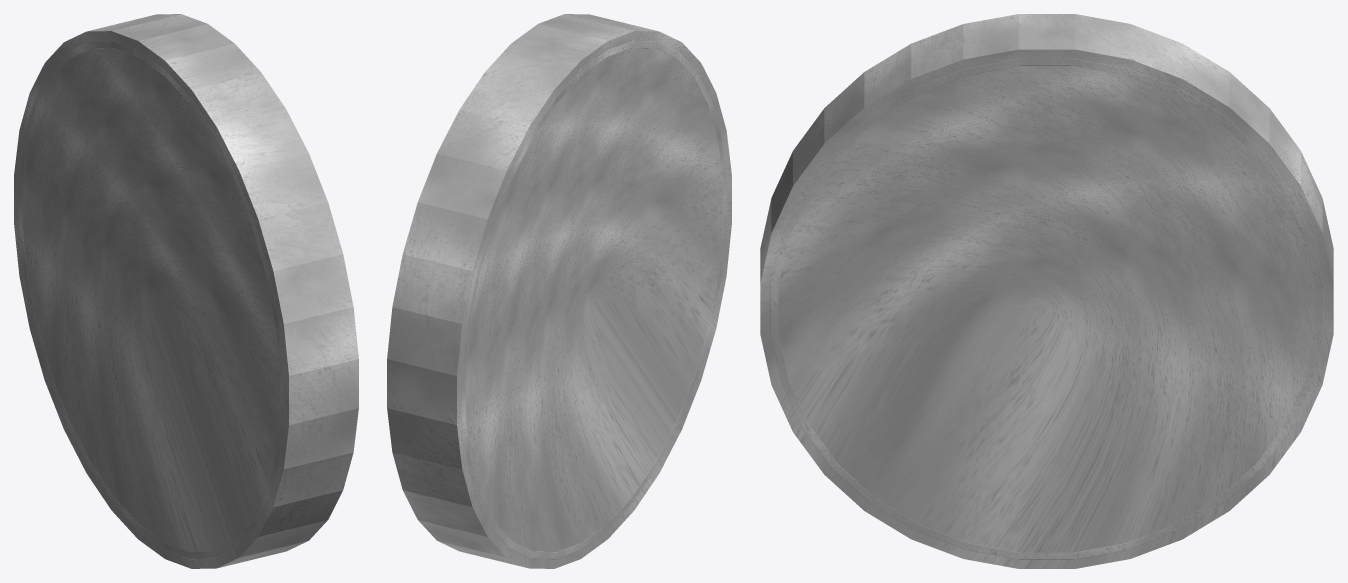
Rendered from Window01O.fbx.
The picture shows the model from 3 angles, left to right: view 1: azimuth 30°, elevation 25°; view 2: azimuth 150°, elevation 25°; view 3: azimuth 270°, elevation 25°; orthographic projection. The views are drawn at different scales.
Visible parts, largest first — view 1: Circle#2, Circle.004#2; view 2: Circle#2, Circle.004#2; view 3: Circle#2, Circle.004#2.
Boxes of the visible parts, x1,y1,x2,y2 form: Circle#2: [14, 14, 358, 568]; Circle.004#2: [19, 17, 350, 565]; Circle#2: [387, 14, 731, 568]; Circle.004#2: [395, 16, 726, 559]; Circle#2: [760, 14, 1333, 568]; Circle.004#2: [760, 18, 1333, 559].
Size of the model in its own units: 0.2941 by 2 by 2.
Materials: 2 (2 with a texture image).
